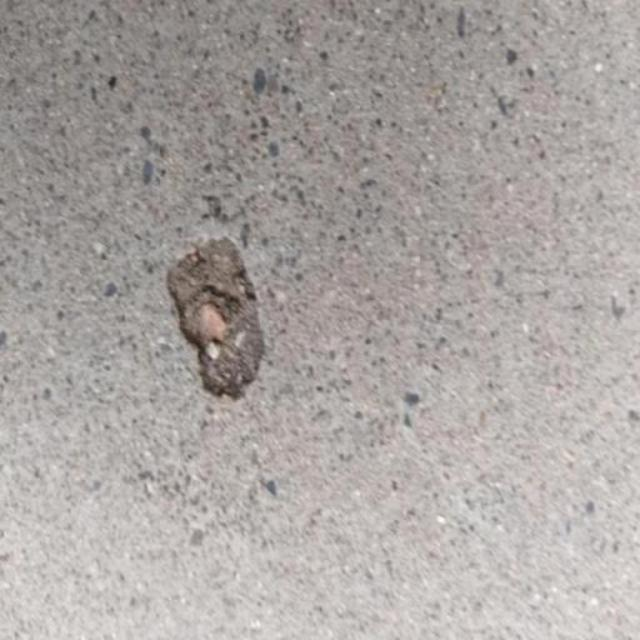D10: (166, 238, 269, 401)
